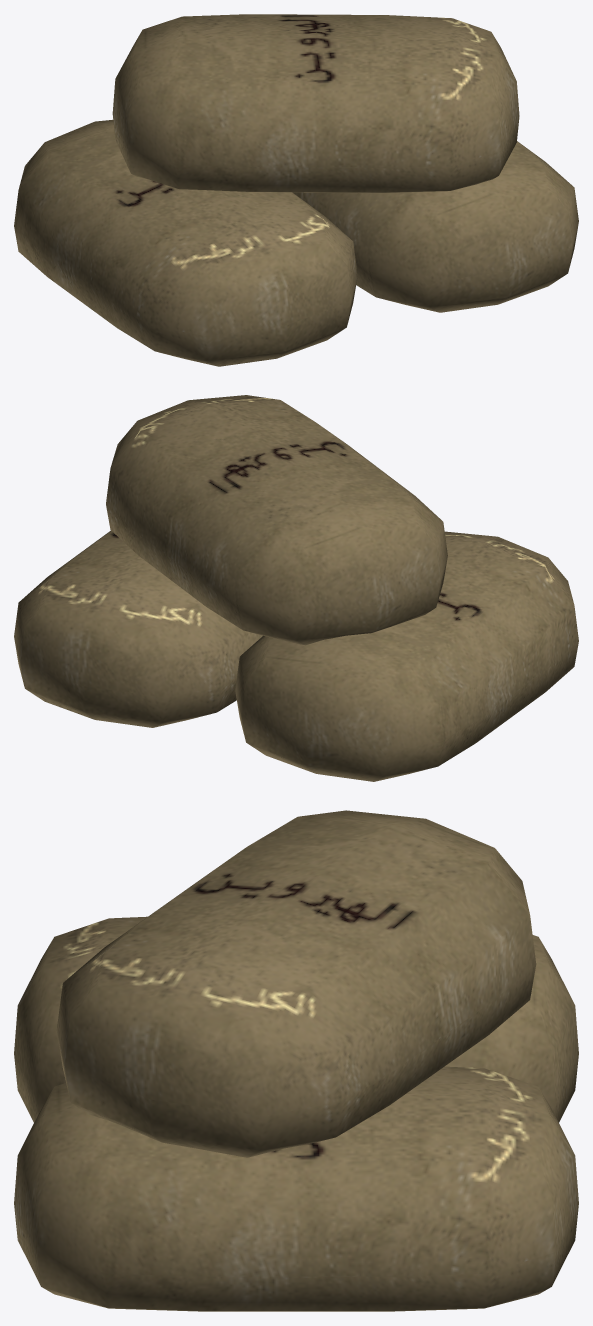
File: HeroinMedium.fbx
3 views of the same model, one above another, from view 1: azimuth 30°, elevation 25°; view 2: azimuth 150°, elevation 25°; view 3: azimuth 270°, elevation 25° (orthographic). The views are drawn at different scales.
Visible parts, largest first — view 1: HeroinMedium; view 2: HeroinMedium; view 3: HeroinMedium.
Boxes of the visible parts, x1,y1,x2,y2 form: HeroinMedium: [14, 14, 578, 366]; HeroinMedium: [14, 395, 578, 781]; HeroinMedium: [14, 810, 578, 1311].
Bounding box in the file's own units: 0.202 × 0.1005 × 0.1627.
